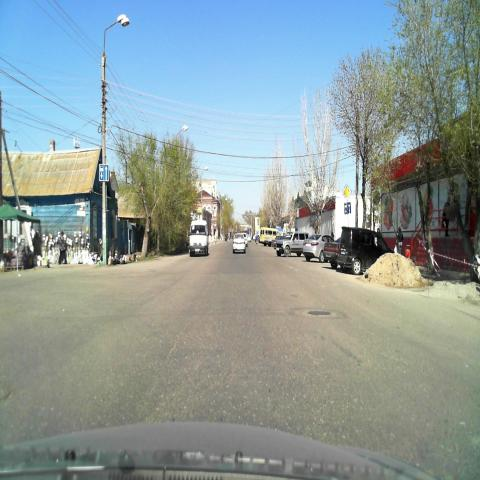5_11: (99, 164, 108, 182), (344, 201, 352, 214)
